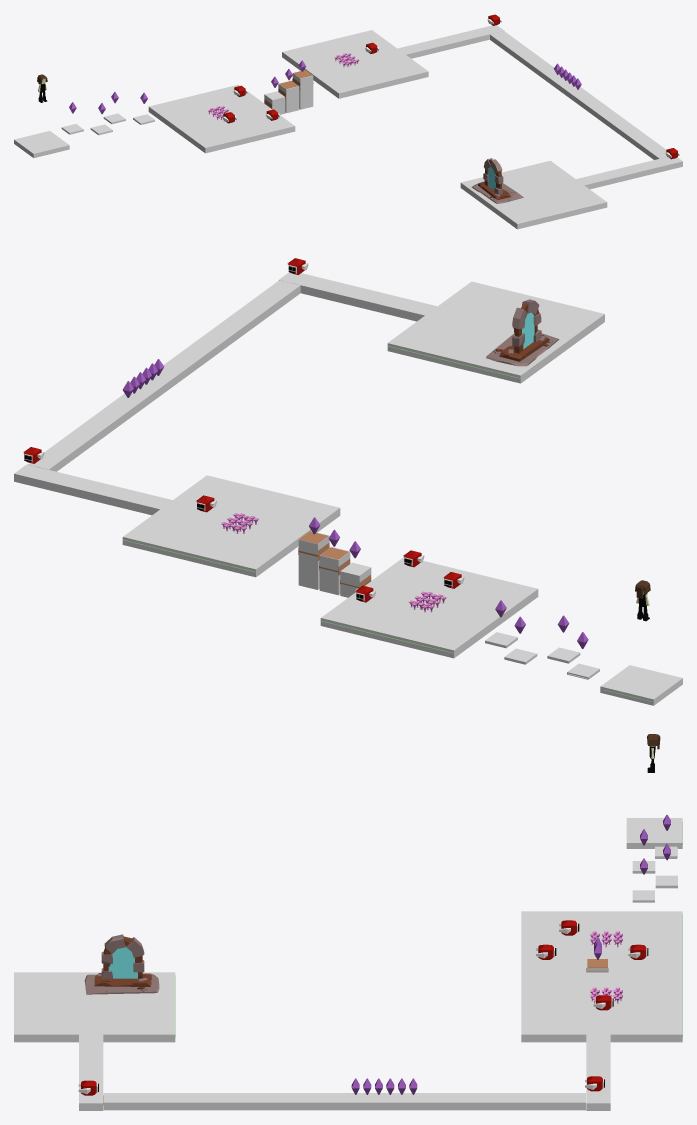
File: level2.gltf
The picture shows the model from 3 angles, top to bottom: view 1: azimuth 30°, elevation 25°; view 2: azimuth 150°, elevation 25°; view 3: azimuth 270°, elevation 25°; orthographic projection. The views are drawn at different scales.
Visible parts, largest first — view 1: Platform.007, Platform.006, Platform.014, Platform.013, Platform.012, Platform.011, Platform.003, LevelGeom, Platform.008, Gate, Platform.009, GateLowerStair (+1 smaller); view 2: Platform.007, Platform.006, Platform.014, Platform.013, Platform.011, Platform.012, LevelGeom, Platform.003, Platform.008, Gate, Platform.009, Platform.010 (+1 smaller); view 3: Platform.007, Platform.014, Platform.006, Platform.013, Platform.011, Platform.012, Platform.003, LevelGeom, Gate, GateLowerStair, LevelGate, GateStair.
Boxes of the visible parts, <box> form: Platform.007: <box>282,30,428,98</box>; Platform.006: <box>148,84,295,153</box>; Platform.014: <box>460,160,607,229</box>; Platform.013: <box>490,31,666,159</box>; Platform.012: <box>576,157,682,189</box>; Platform.011: <box>397,25,504,58</box>; Platform.003: <box>14,131,69,157</box>; LevelGeom: <box>207,53,359,119</box>; Platform.008: <box>292,73,313,109</box>; Gate: <box>480,158,503,194</box>; Platform.009: <box>278,80,299,113</box>; GateLowerStair: <box>471,181,523,203</box>; Platform.007: <box>122,475,340,577</box>; Platform.006: <box>320,557,538,658</box>; Platform.014: <box>387,281,604,383</box>; Platform.013: <box>28,280,300,471</box>; Platform.011: <box>14,464,172,515</box>; Platform.012: <box>278,272,437,321</box>; LevelGeom: <box>123,346,651,701</box>; Platform.003: <box>600,665,682,705</box>; Platform.008: <box>298,531,329,589</box>; Gate: <box>512,299,541,357</box>; Platform.009: <box>319,547,350,595</box>; Platform.010: <box>340,562,371,597</box>; Platform.007: <box>521,972,682,1042</box>; Platform.014: <box>14,972,175,1042</box>; Platform.006: <box>521,911,682,972</box>; Platform.013: <box>103,1093,585,1110</box>; Platform.011: <box>586,1034,610,1110</box>; Platform.012: <box>79,1034,103,1110</box>; Platform.003: <box>626,818,682,848</box>; LevelGeom: <box>103,822,682,1104</box>; Gate: <box>101,934,144,978</box>; GateLowerStair: <box>84,973,159,994</box>; LevelGate: <box>108,946,137,978</box>; GateStair: <box>94,973,151,986</box>.
Size of the model in its own units: 64.99 by 10.06 by 58.02.
